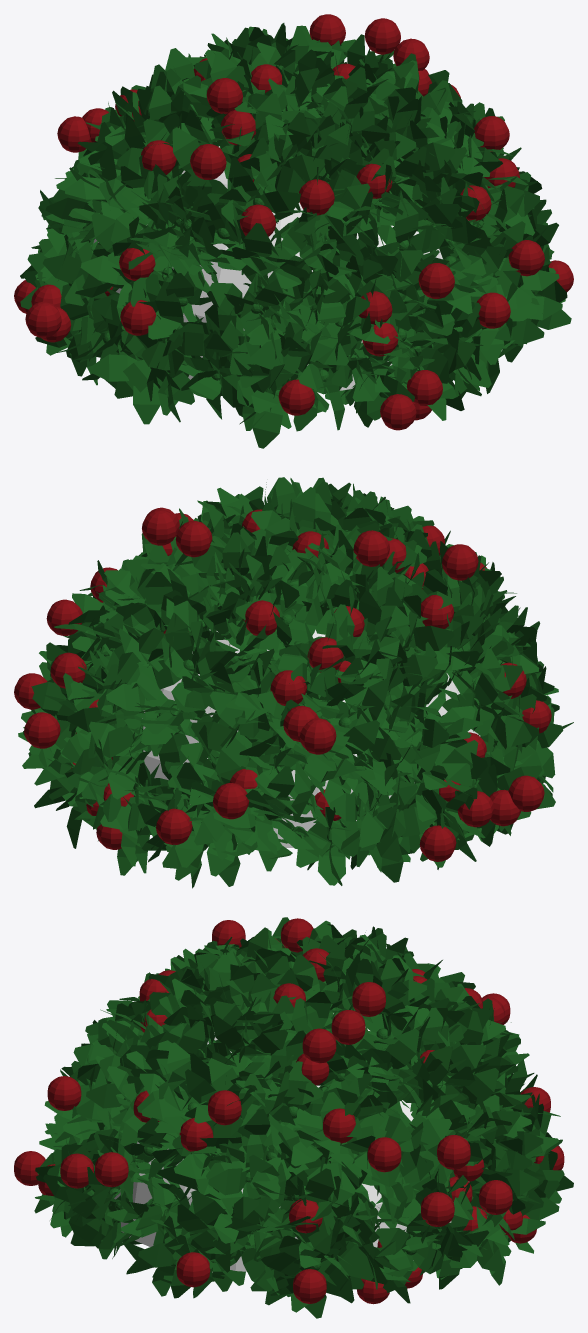
Rendered from Bush_Coffee.fbx.
The picture shows the model from 3 angles, top to bottom: view 1: azimuth 30°, elevation 25°; view 2: azimuth 150°, elevation 25°; view 3: azimuth 270°, elevation 25°; orthographic projection. The views are drawn at different scales.
Parts seen in each view (by area): view 1: bush; view 2: bush; view 3: bush.
Part boxes in pixels (<box>): bush: <box>14,14,573,448</box>; bush: <box>14,477,573,888</box>; bush: <box>14,917,573,1318</box>.
Size of the model in its own units: 264 by 149 by 265.
